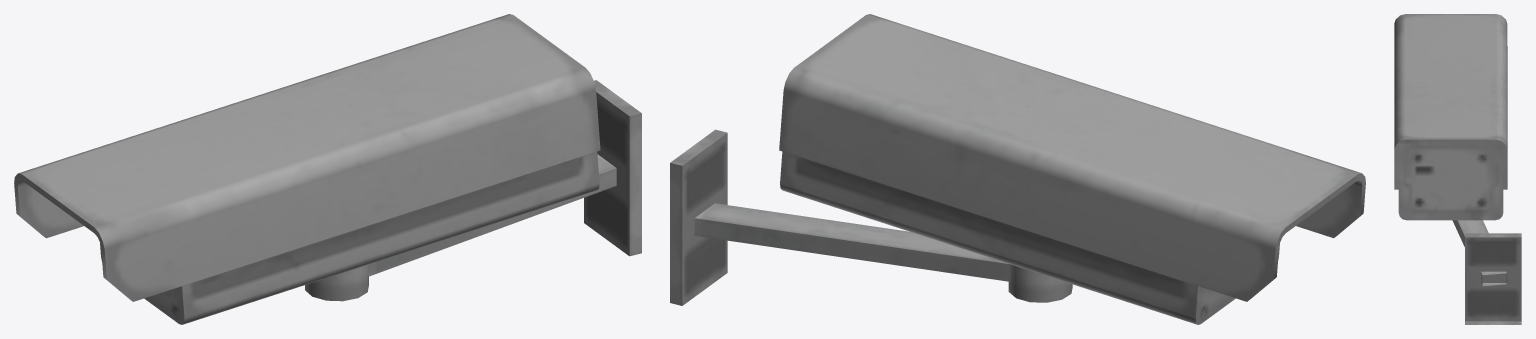
File: HH_Security_Camera_01.fbx
3 views of the same model, side by side, from view 1: azimuth 30°, elevation 25°; view 2: azimuth 150°, elevation 25°; view 3: azimuth 270°, elevation 25° (orthographic). The views are drawn at different scales.
Visible parts, largest first — view 1: HH_Security_Camera_01_LOD0; view 2: HH_Security_Camera_01_LOD0; view 3: HH_Security_Camera_01_LOD0.
Boxes of the visible parts, <box> form: HH_Security_Camera_01_LOD0: <box>14,14,641,324</box>; HH_Security_Camera_01_LOD0: <box>670,14,1365,324</box>; HH_Security_Camera_01_LOD0: <box>1394,14,1521,324</box>.
Size of what is drawn, in the model's own units: 50.27 by 19.81 by 14.9.
